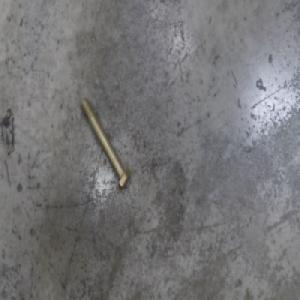Bolt: (80, 95, 132, 192)
